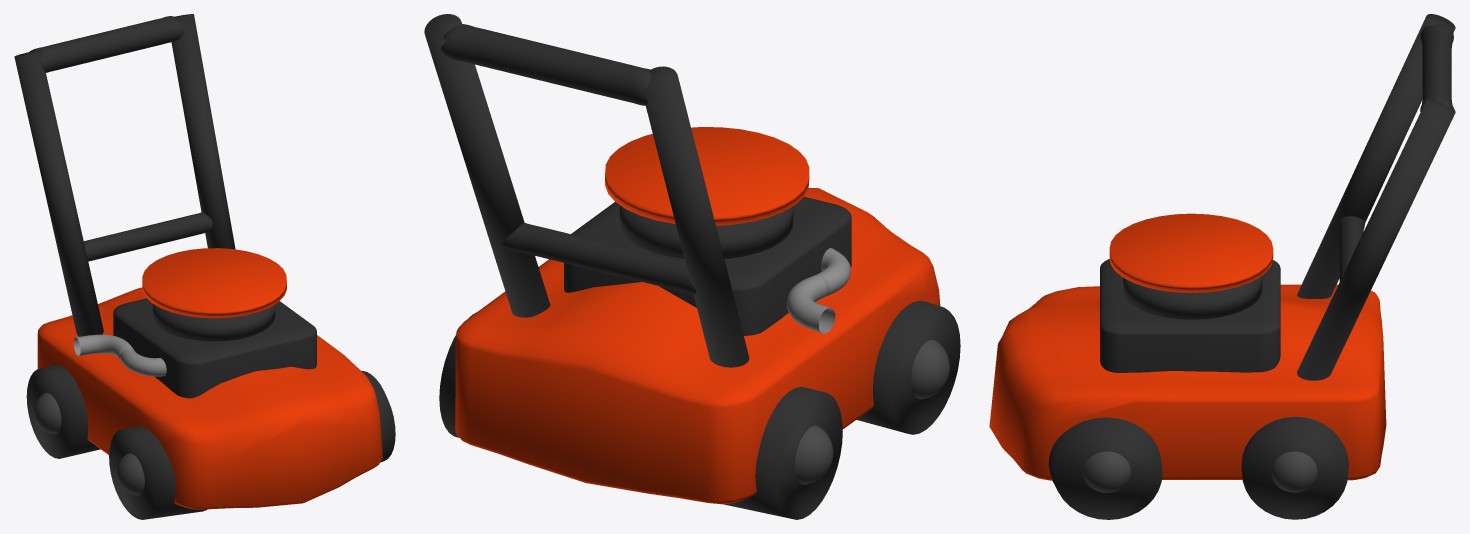
The model's file is LawnMover.fbx.
3 renders of one model, left to right at view 1: azimuth 30°, elevation 25°; view 2: azimuth 150°, elevation 25°; view 3: azimuth 270°, elevation 25°, orthographic. The views are drawn at different scales.
Visible parts, largest first — view 1: LawnMover; view 2: LawnMover; view 3: LawnMover.
Boxes of the visible parts, x1,y1,x2,y2 form: LawnMover: (14,14,395,519); LawnMover: (424,14,960,519); LawnMover: (989,14,1455,519).
Size of the model in its own units: 251 by 320 by 341.
